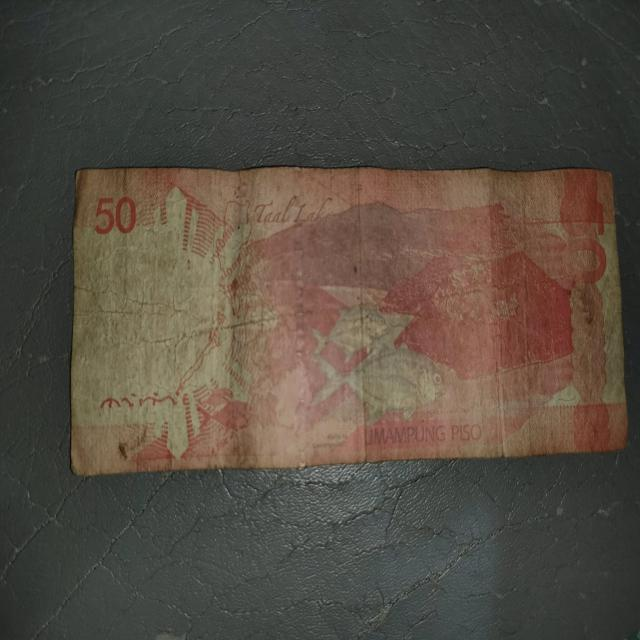notbroken: (69, 162, 629, 476)
